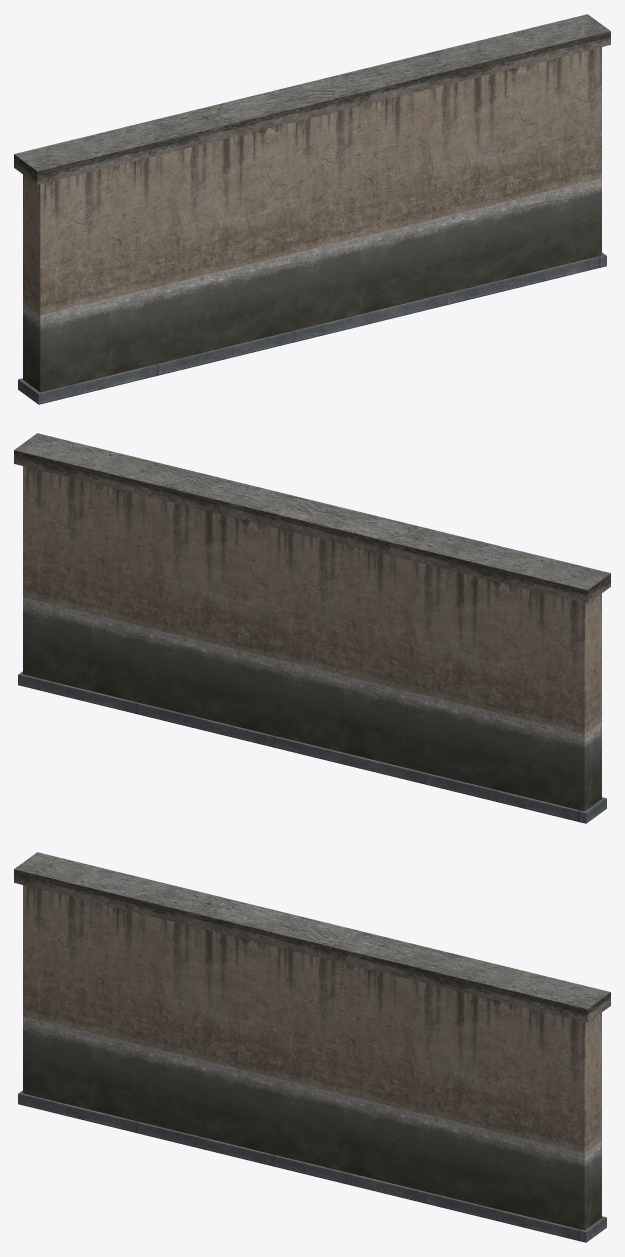
File: Cover_Qiang4m01.glb
3 renders of one model, top to bottom at view 1: azimuth 30°, elevation 25°; view 2: azimuth 150°, elevation 25°; view 3: azimuth 330°, elevation 25°, orthographic.
Parts seen in each view (by area): view 1: xiutz_qiang_4m_01; view 2: xiutz_qiang_4m_01; view 3: xiutz_qiang_4m_01.
Part boxes in pixels (left/top/right/bottom): xiutz_qiang_4m_01: left=14, top=14, right=610, bottom=404; xiutz_qiang_4m_01: left=14, top=433, right=610, bottom=823; xiutz_qiang_4m_01: left=14, top=852, right=610, bottom=1242.
Size of the model in its own units: 4.04 by 1.58 by 0.2844.
1 material, 1 textured.
